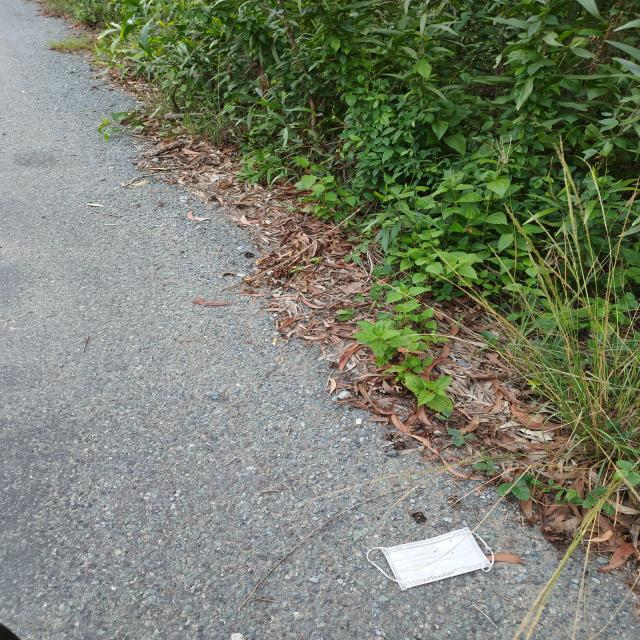mask: (366, 526, 494, 590)
